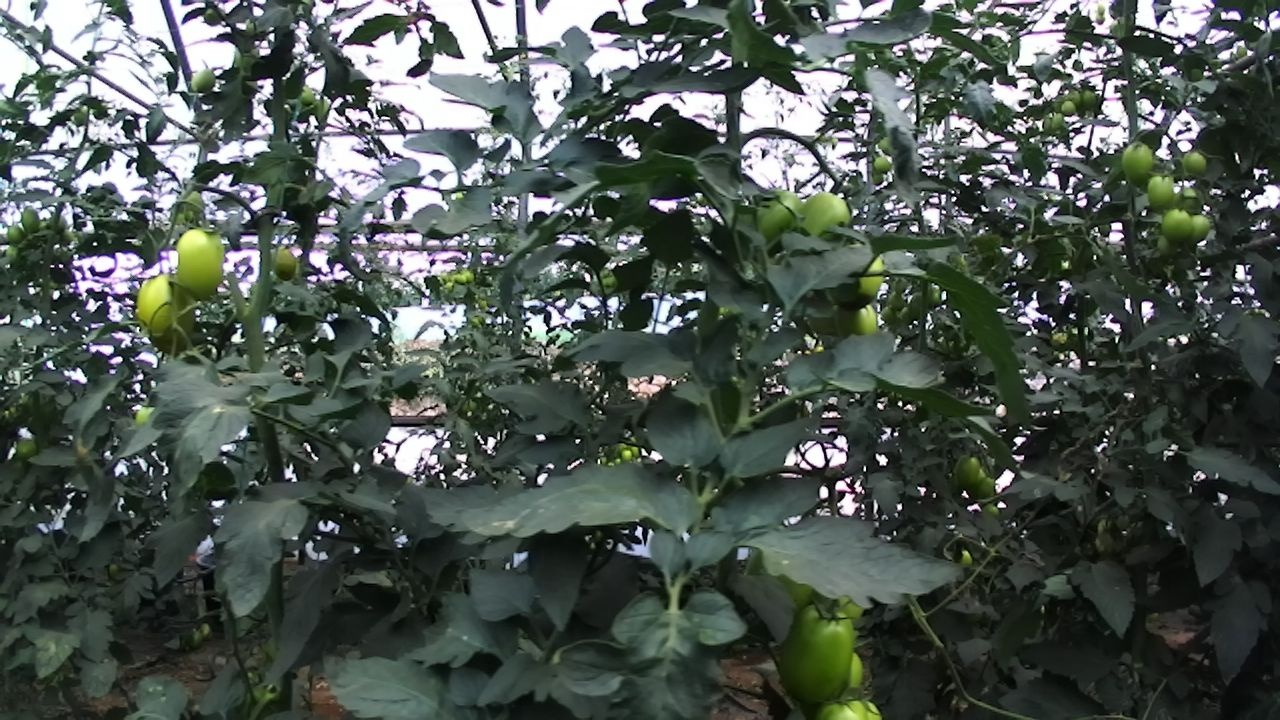tomato: (767, 587, 878, 715), (121, 264, 211, 357), (165, 219, 239, 303), (787, 179, 866, 253), (822, 235, 889, 319), (745, 177, 815, 249), (831, 297, 885, 347), (1116, 136, 1160, 193), (1156, 203, 1199, 248), (950, 447, 987, 496), (267, 239, 306, 285), (1141, 169, 1180, 214), (182, 62, 224, 99), (1177, 146, 1216, 182), (1185, 209, 1217, 250), (9, 432, 45, 466), (15, 200, 47, 238), (1, 218, 30, 250), (868, 152, 897, 177), (1078, 84, 1102, 113), (1056, 95, 1079, 120), (618, 445, 637, 464)
